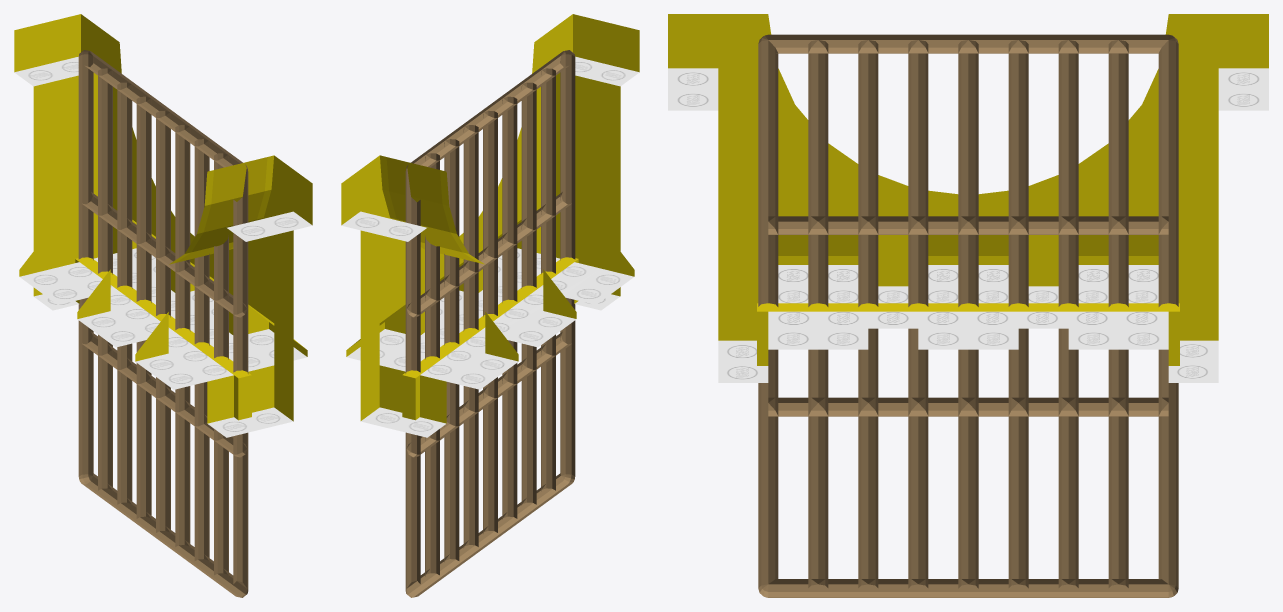
3 views of the same model, side by side, from view 1: azimuth 30°, elevation 25°; view 2: azimuth 150°, elevation 25°; view 3: azimuth 270°, elevation 25° (orthographic). The views are drawn at different scales.
Parts seen in each view (by area): view 1: 005_L_604600, 012_L_302720; view 2: 005_L_604600, 012_L_302720; view 3: 005_L_604600, 012_L_302720.
Part boxes in pixels (left/top/right/bottom): 005_L_604600: left=78, top=50, right=248, bottom=597; 012_L_302720: left=14, top=14, right=312, bottom=437; 005_L_604600: left=405, top=50, right=575, bottom=597; 012_L_302720: left=341, top=14, right=639, bottom=437; 005_L_604600: left=758, top=34, right=1178, bottom=597; 012_L_302720: left=668, top=14, right=1268, bottom=382.
Bounding box in the file's own units: 3.2 × 9.92 × 9.6.
Materials: 5 (2 with a texture image).
